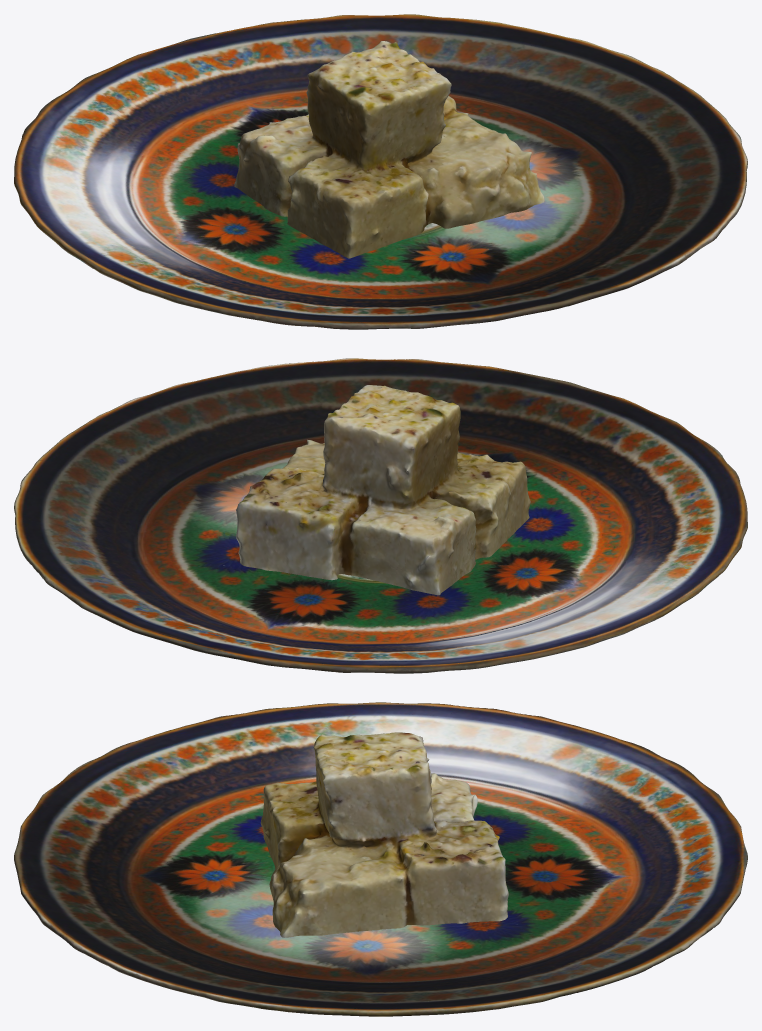
The model's file is kalakand.rapid.glb.
The picture shows the model from 3 angles, top to bottom: view 1: azimuth 30°, elevation 25°; view 2: azimuth 150°, elevation 25°; view 3: azimuth 270°, elevation 25°; orthographic projection.
Bounding box in the file's own units: 0.2002 × 0.0405 × 0.2003.
Materials: 1 (1 with a texture image).
